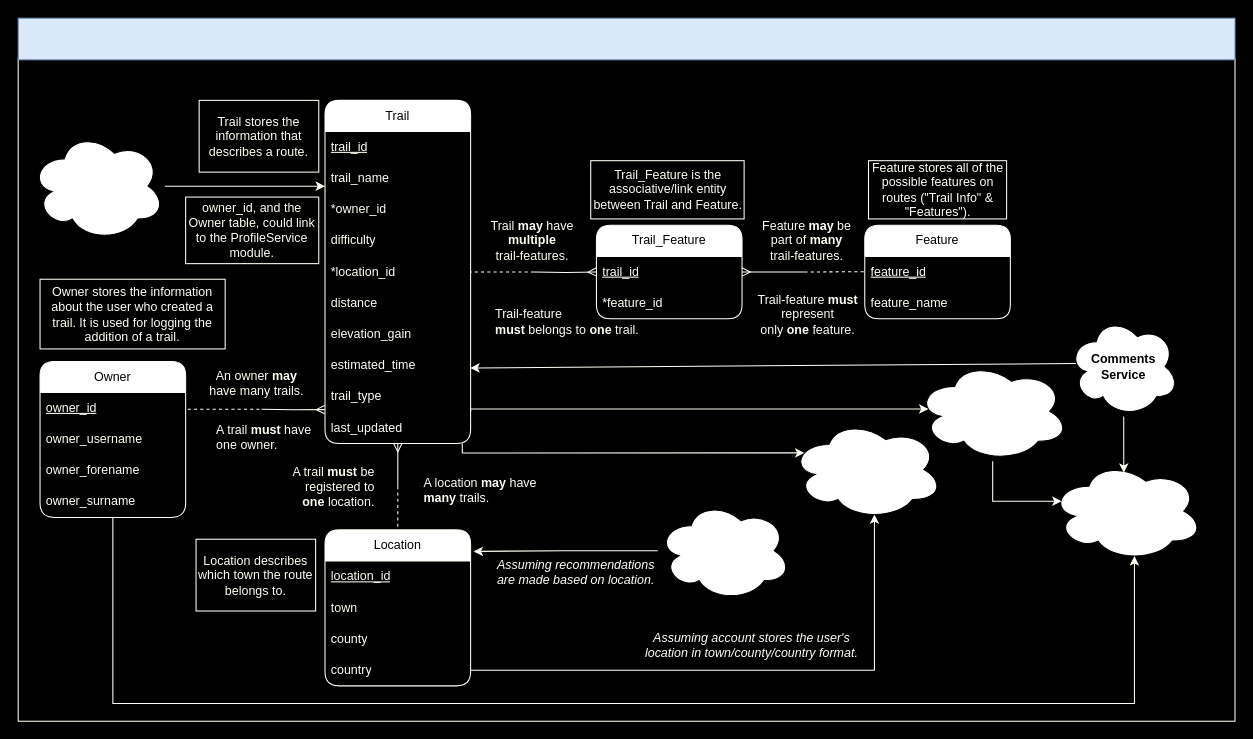
Image size: 1253x739. Some labels were removed from this diagram. The centre of each missing label's shape, as x and y in pixels:
"AccountService" goes at point 866,469.
"BadgeService" goes at point 992,410.
"Final ERD" goes at point 626,38.
"LinkedData Service" goes at point 97,186.
"ProfileService" goes at point 1126,510.
"Recommender Service" goes at point 724,550.
